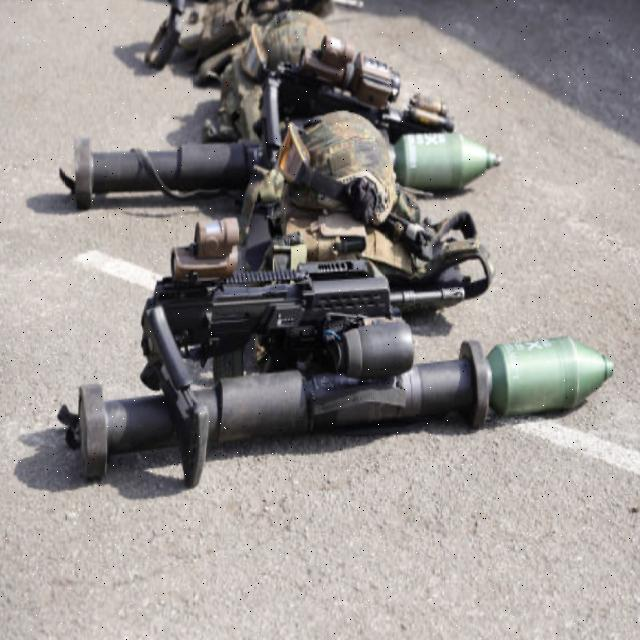bazooka: (66, 327, 629, 486), (71, 125, 513, 208)
